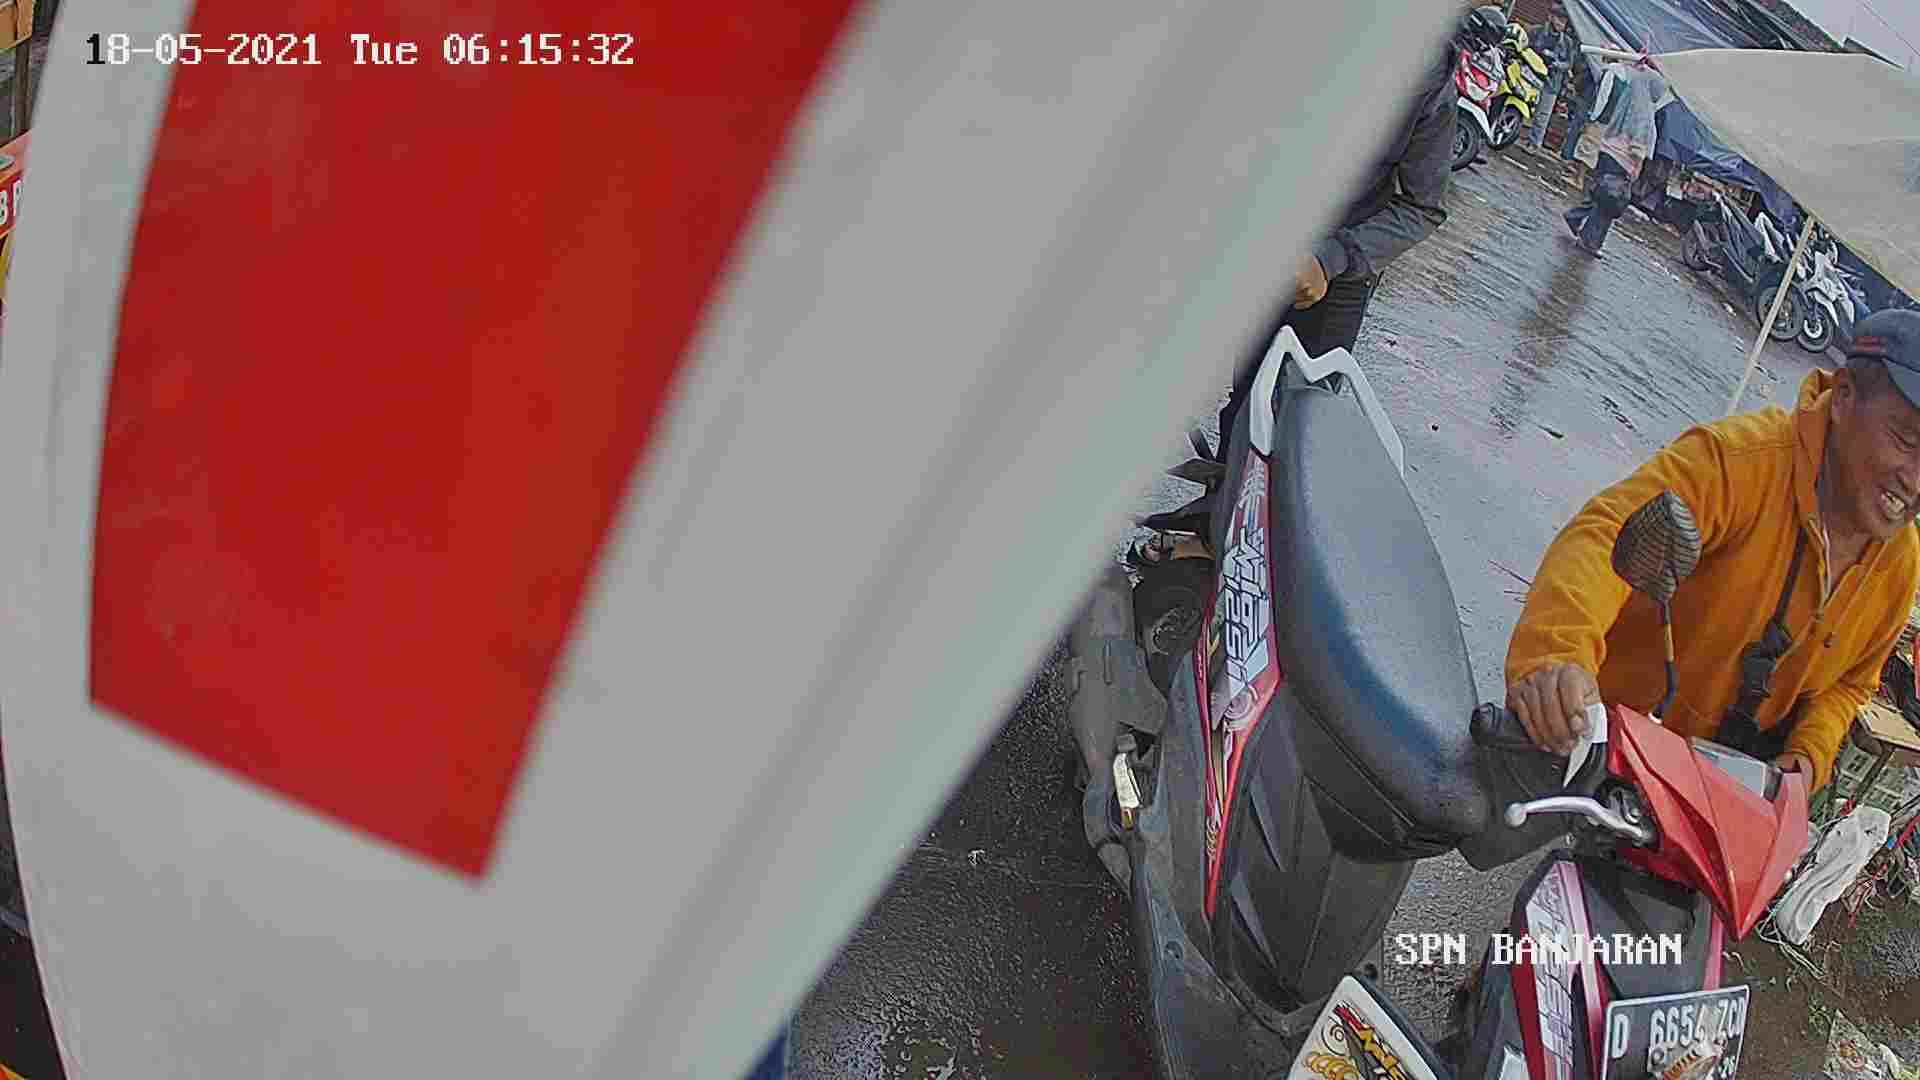motor: (1178, 301, 1785, 1080)
